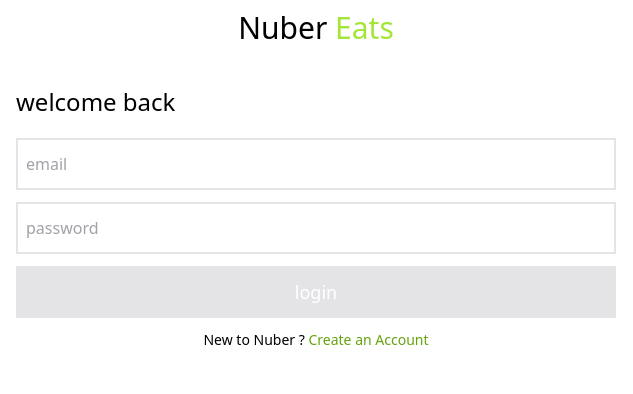
Test: first test › can see eamil / password validation error
Type "tt" into the field named "email" at x=316, y=164, box [16,138,616,190]
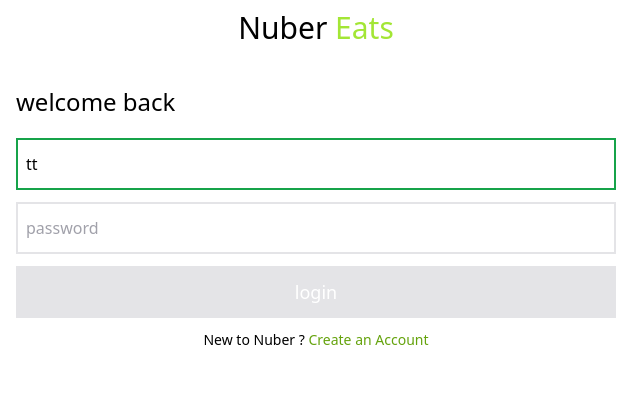
Clear the field named "email" at x=316, y=164, box [16,138,616,190]
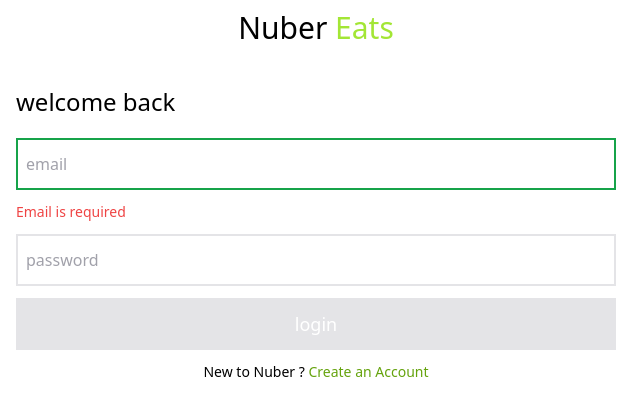
Expected: the message reads "Email is required", [16,202,126,221]
Type "tt" into the field named "email" at x=316, y=164, box [16,138,616,190]
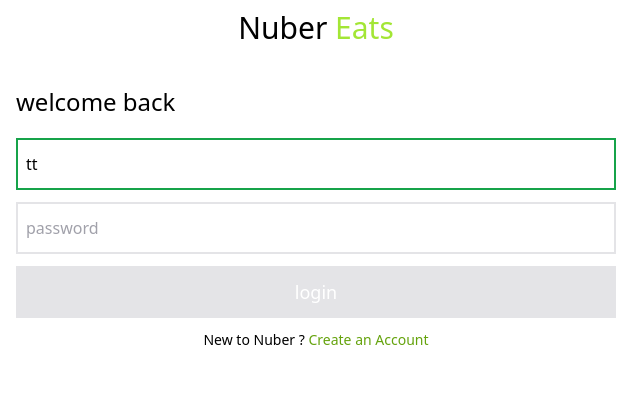
Type "tt" into the password field named "password" at x=316, y=228, box [16,202,616,254]
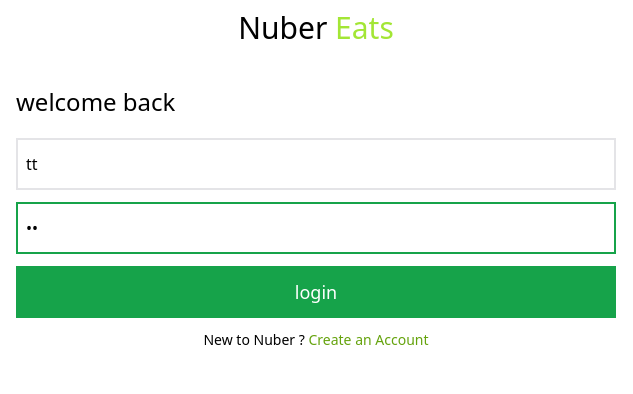
Clear the password field named "password" at x=316, y=228, box [16,202,616,254]
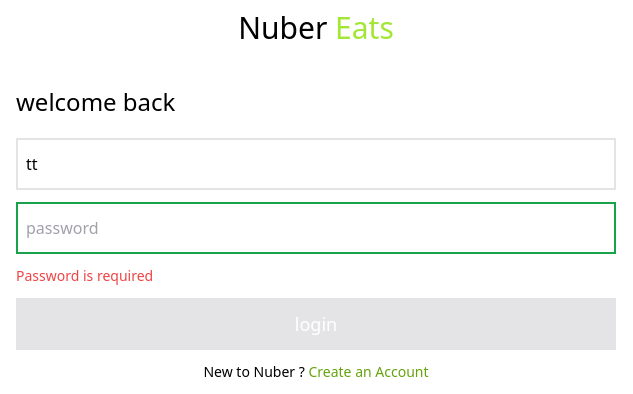
Expected: the message reads "Password is required", [16,266,153,285]
